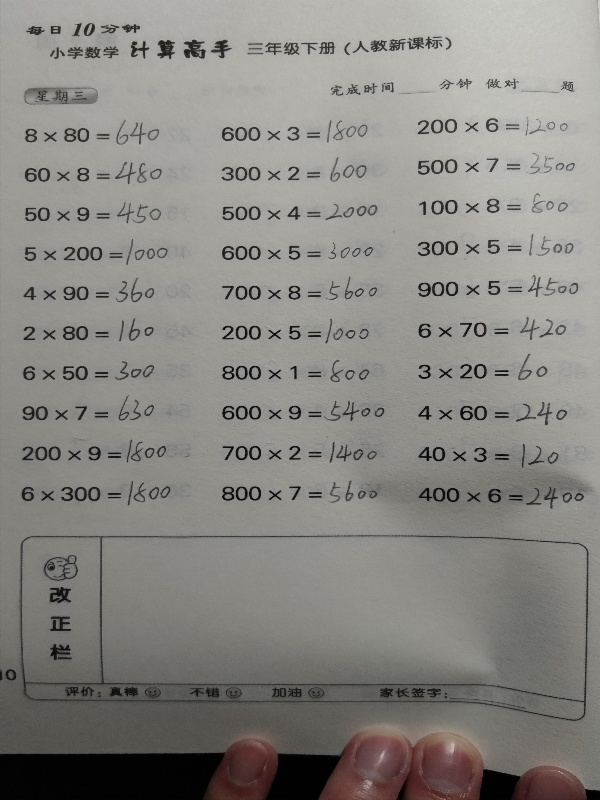equation: (413, 480, 592, 513), (217, 478, 383, 509), (414, 312, 574, 344), (414, 437, 569, 470), (21, 237, 171, 271), (18, 478, 175, 510), (219, 276, 381, 307), (219, 153, 371, 186), (218, 397, 388, 426), (219, 315, 373, 347), (414, 271, 583, 300), (415, 352, 559, 386), (219, 356, 374, 387), (414, 230, 577, 259), (19, 391, 158, 425), (219, 438, 381, 467), (415, 399, 571, 429), (20, 274, 159, 307), (22, 117, 164, 149), (19, 437, 170, 467), (413, 150, 580, 177), (218, 117, 372, 146), (415, 190, 571, 217), (20, 197, 165, 226), (21, 159, 166, 188), (21, 315, 158, 345), (218, 239, 378, 264), (218, 200, 380, 224), (415, 114, 572, 138), (18, 358, 158, 384)
